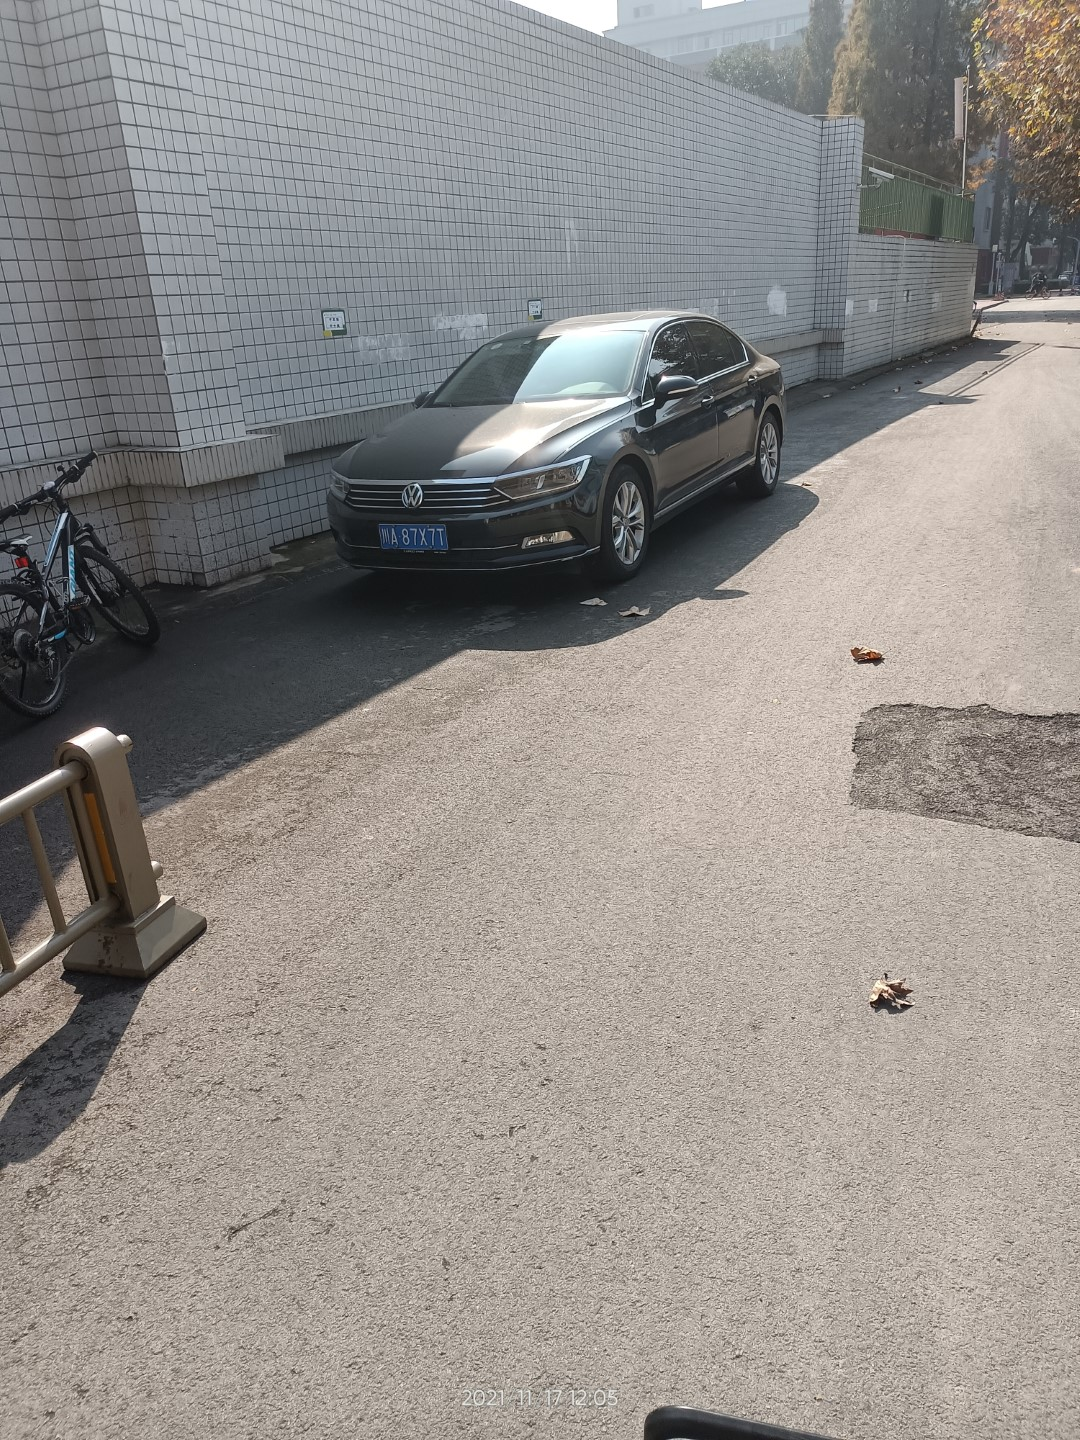plate: (377, 522, 446, 551)
